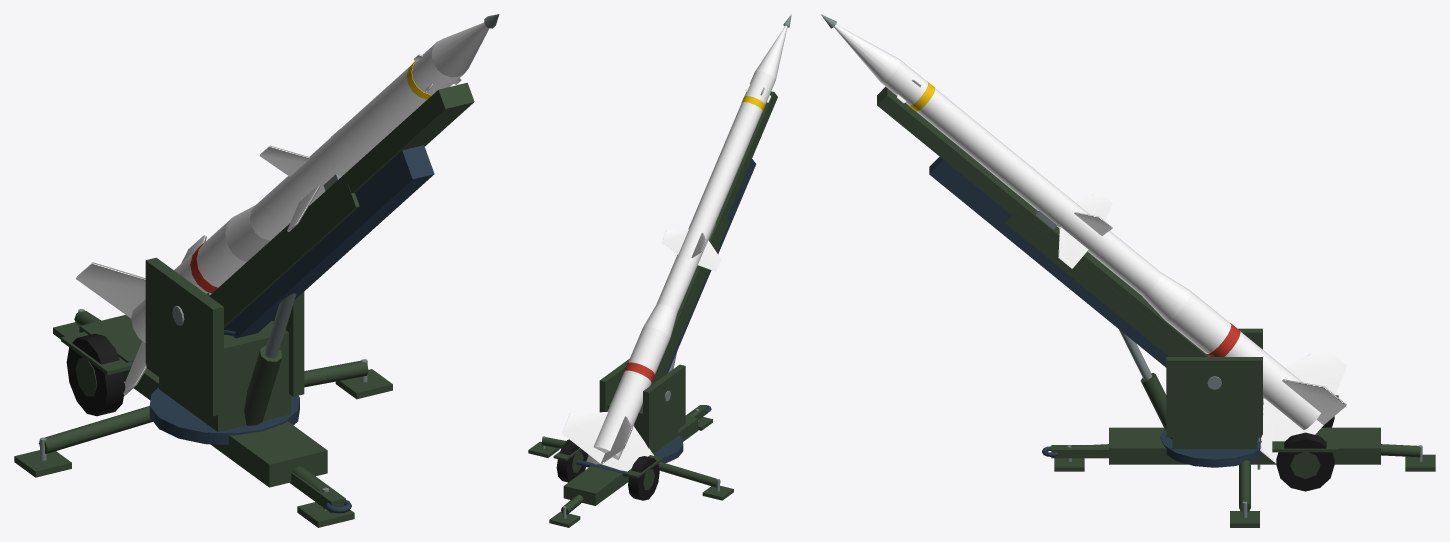
Rendered from sa2-sam.glb.
3 renders of one model, left to right at view 1: azimuth 30°, elevation 25°; view 2: azimuth 150°, elevation 25°; view 3: azimuth 270°, elevation 25°, orthographic. The views are drawn at different scales.
Parts seen in each view (by area): view 1: Mesh_BracketR, Mesh_SustainerBody, Mesh_RailTruss, Mesh_ChassisMain, Mesh_RailGuide, Mesh_PedestalBody, Mesh_TrussSideR, Mesh_TurntableBase, Mesh_WheelL, Mesh_BoosterBody, Mesh_BoosterFin4, Mesh_NoseCone (+14 smaller); view 2: Mesh_SustainerBody, Mesh_BoosterBody, Mesh_BracketR, Mesh_ChassisMain, Mesh_RailGuide, Mesh_BoosterFin3, Mesh_TrussSideR, Mesh_BoosterFin1, Mesh_WheelL, Mesh_RailTruss, Mesh_BracketL, Mesh_WheelR (+10 smaller); view 3: Mesh_SustainerBody, Mesh_BracketL, Mesh_RailGuide, Mesh_BoosterBody, Mesh_ChassisMain, Mesh_RailTruss, Mesh_TrussSideL, Mesh_WheelR, Mesh_TurntableBase, Mesh_BoosterFin4, Mesh_BoosterFin2, Mesh_NoseCone (+5 smaller).
Boxes of the visible parts, <box> form: Mesh_BracketR: <box>145,257,223,416</box>; Mesh_SustainerBody: <box>250,42,463,240</box>; Mesh_RailTruss: <box>224,145,434,338</box>; Mesh_ChassisMain: <box>79,315,327,487</box>; Mesh_RailGuide: <box>209,82,474,301</box>; Mesh_PedestalBody: <box>159,320,290,431</box>; Mesh_TrussSideR: <box>217,184,359,327</box>; Mesh_TurntableBase: <box>149,387,299,444</box>; Mesh_WheelL: <box>66,333,125,416</box>; Mesh_BoosterBody: <box>131,218,246,342</box>; Mesh_BoosterFin4: <box>76,262,145,318</box>; Mesh_NoseCone: <box>431,22,489,77</box>; Mesh_SustainerBody: <box>656,71,775,312</box>; Mesh_BoosterBody: <box>593,326,670,460</box>; Mesh_BracketR: <box>643,364,685,449</box>; Mesh_ChassisMain: <box>563,415,698,505</box>; Mesh_RailGuide: <box>642,91,777,405</box>; Mesh_BoosterFin3: <box>562,412,607,463</box>; Mesh_TrussSideR: <box>654,215,729,382</box>; Mesh_BoosterFin1: <box>602,426,653,471</box>; Mesh_WheelL: <box>628,456,659,500</box>; Mesh_RailTruss: <box>665,159,756,374</box>; Mesh_BracketL: <box>599,358,629,412</box>; Mesh_WheelR: <box>556,439,588,482</box>; Mesh_SustainerBody: <box>881,59,1160,295</box>; Mesh_BracketL: <box>1166,357,1262,437</box>; Mesh_RailGuide: <box>877,86,1263,404</box>; Mesh_BoosterBody: <box>1166,290,1320,430</box>; Mesh_ChassisMain: <box>1109,427,1380,464</box>; Mesh_RailTruss: <box>929,156,1260,440</box>; Mesh_TrussSideL: <box>1005,211,1195,356</box>; Mesh_WheelR: <box>1276,432,1334,491</box>; Mesh_TurntableBase: <box>1160,428,1262,467</box>; Mesh_BoosterFin4: <box>1285,347,1346,394</box>; Mesh_BoosterFin2: <box>1260,398,1323,463</box>; Mesh_NoseCone: <box>834,24,900,82</box>.
Bounding box in the file's own units: 4.9 × 8.23 × 10.17.
